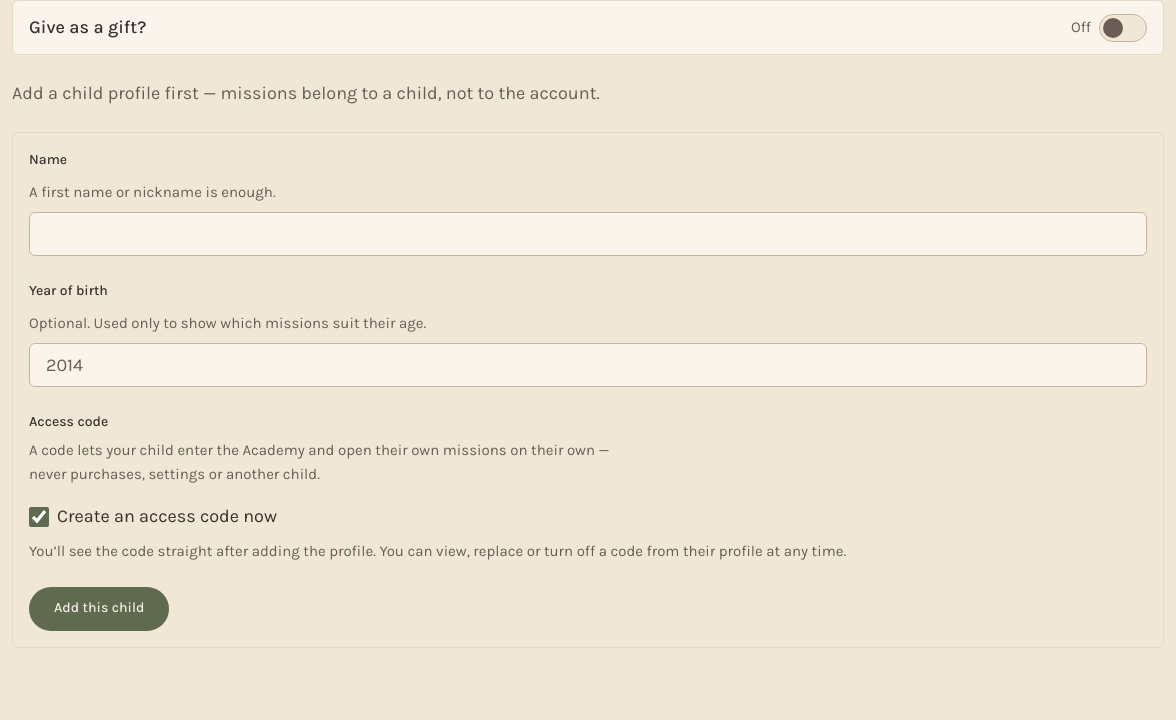
the gift toggle (D-140) › a purchaser with no children can still give a gift
Expected: the text "Add a child profile first" is shown, [12, 82, 600, 104]
Click the switch labelled "Give as a gift? Off" at coordinates (1123, 28), box [1099, 14, 1147, 42]
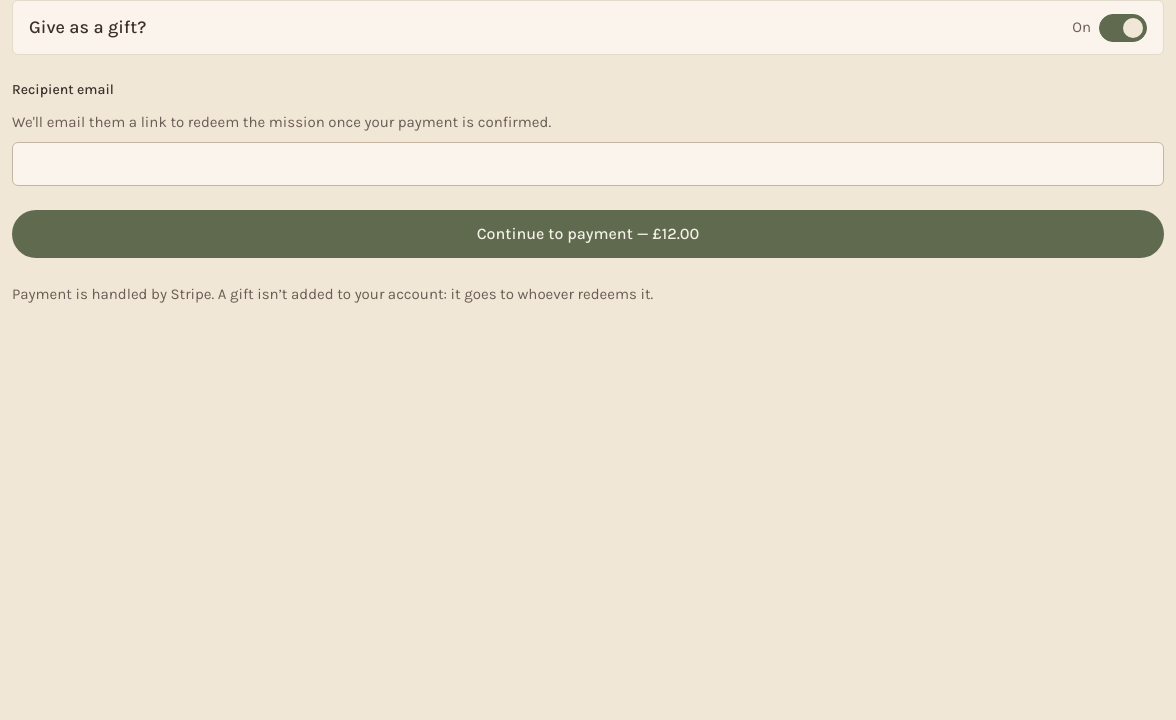
Expected: the field labelled "Recipient email" is shown, [12, 142, 1164, 186]
